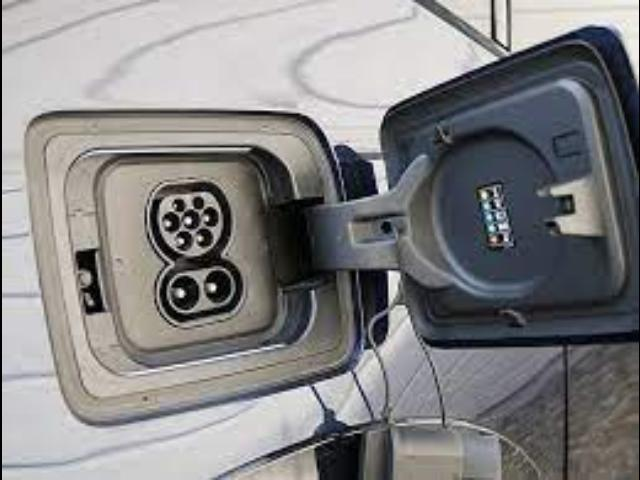inlet: (156, 191, 223, 257)
inlet-above-left: (173, 198, 185, 211)
inlet-above-right: (191, 197, 204, 209)
inlet-below-left: (175, 231, 193, 251)
inlet-below-right: (195, 228, 212, 247)
inlet-circle: (181, 210, 201, 231)
inlet-circle-left: (162, 212, 180, 232)
inlet-circle-right: (203, 207, 218, 227)
inlet-minus: (204, 270, 232, 303)
inlet-plus: (171, 276, 200, 311)
